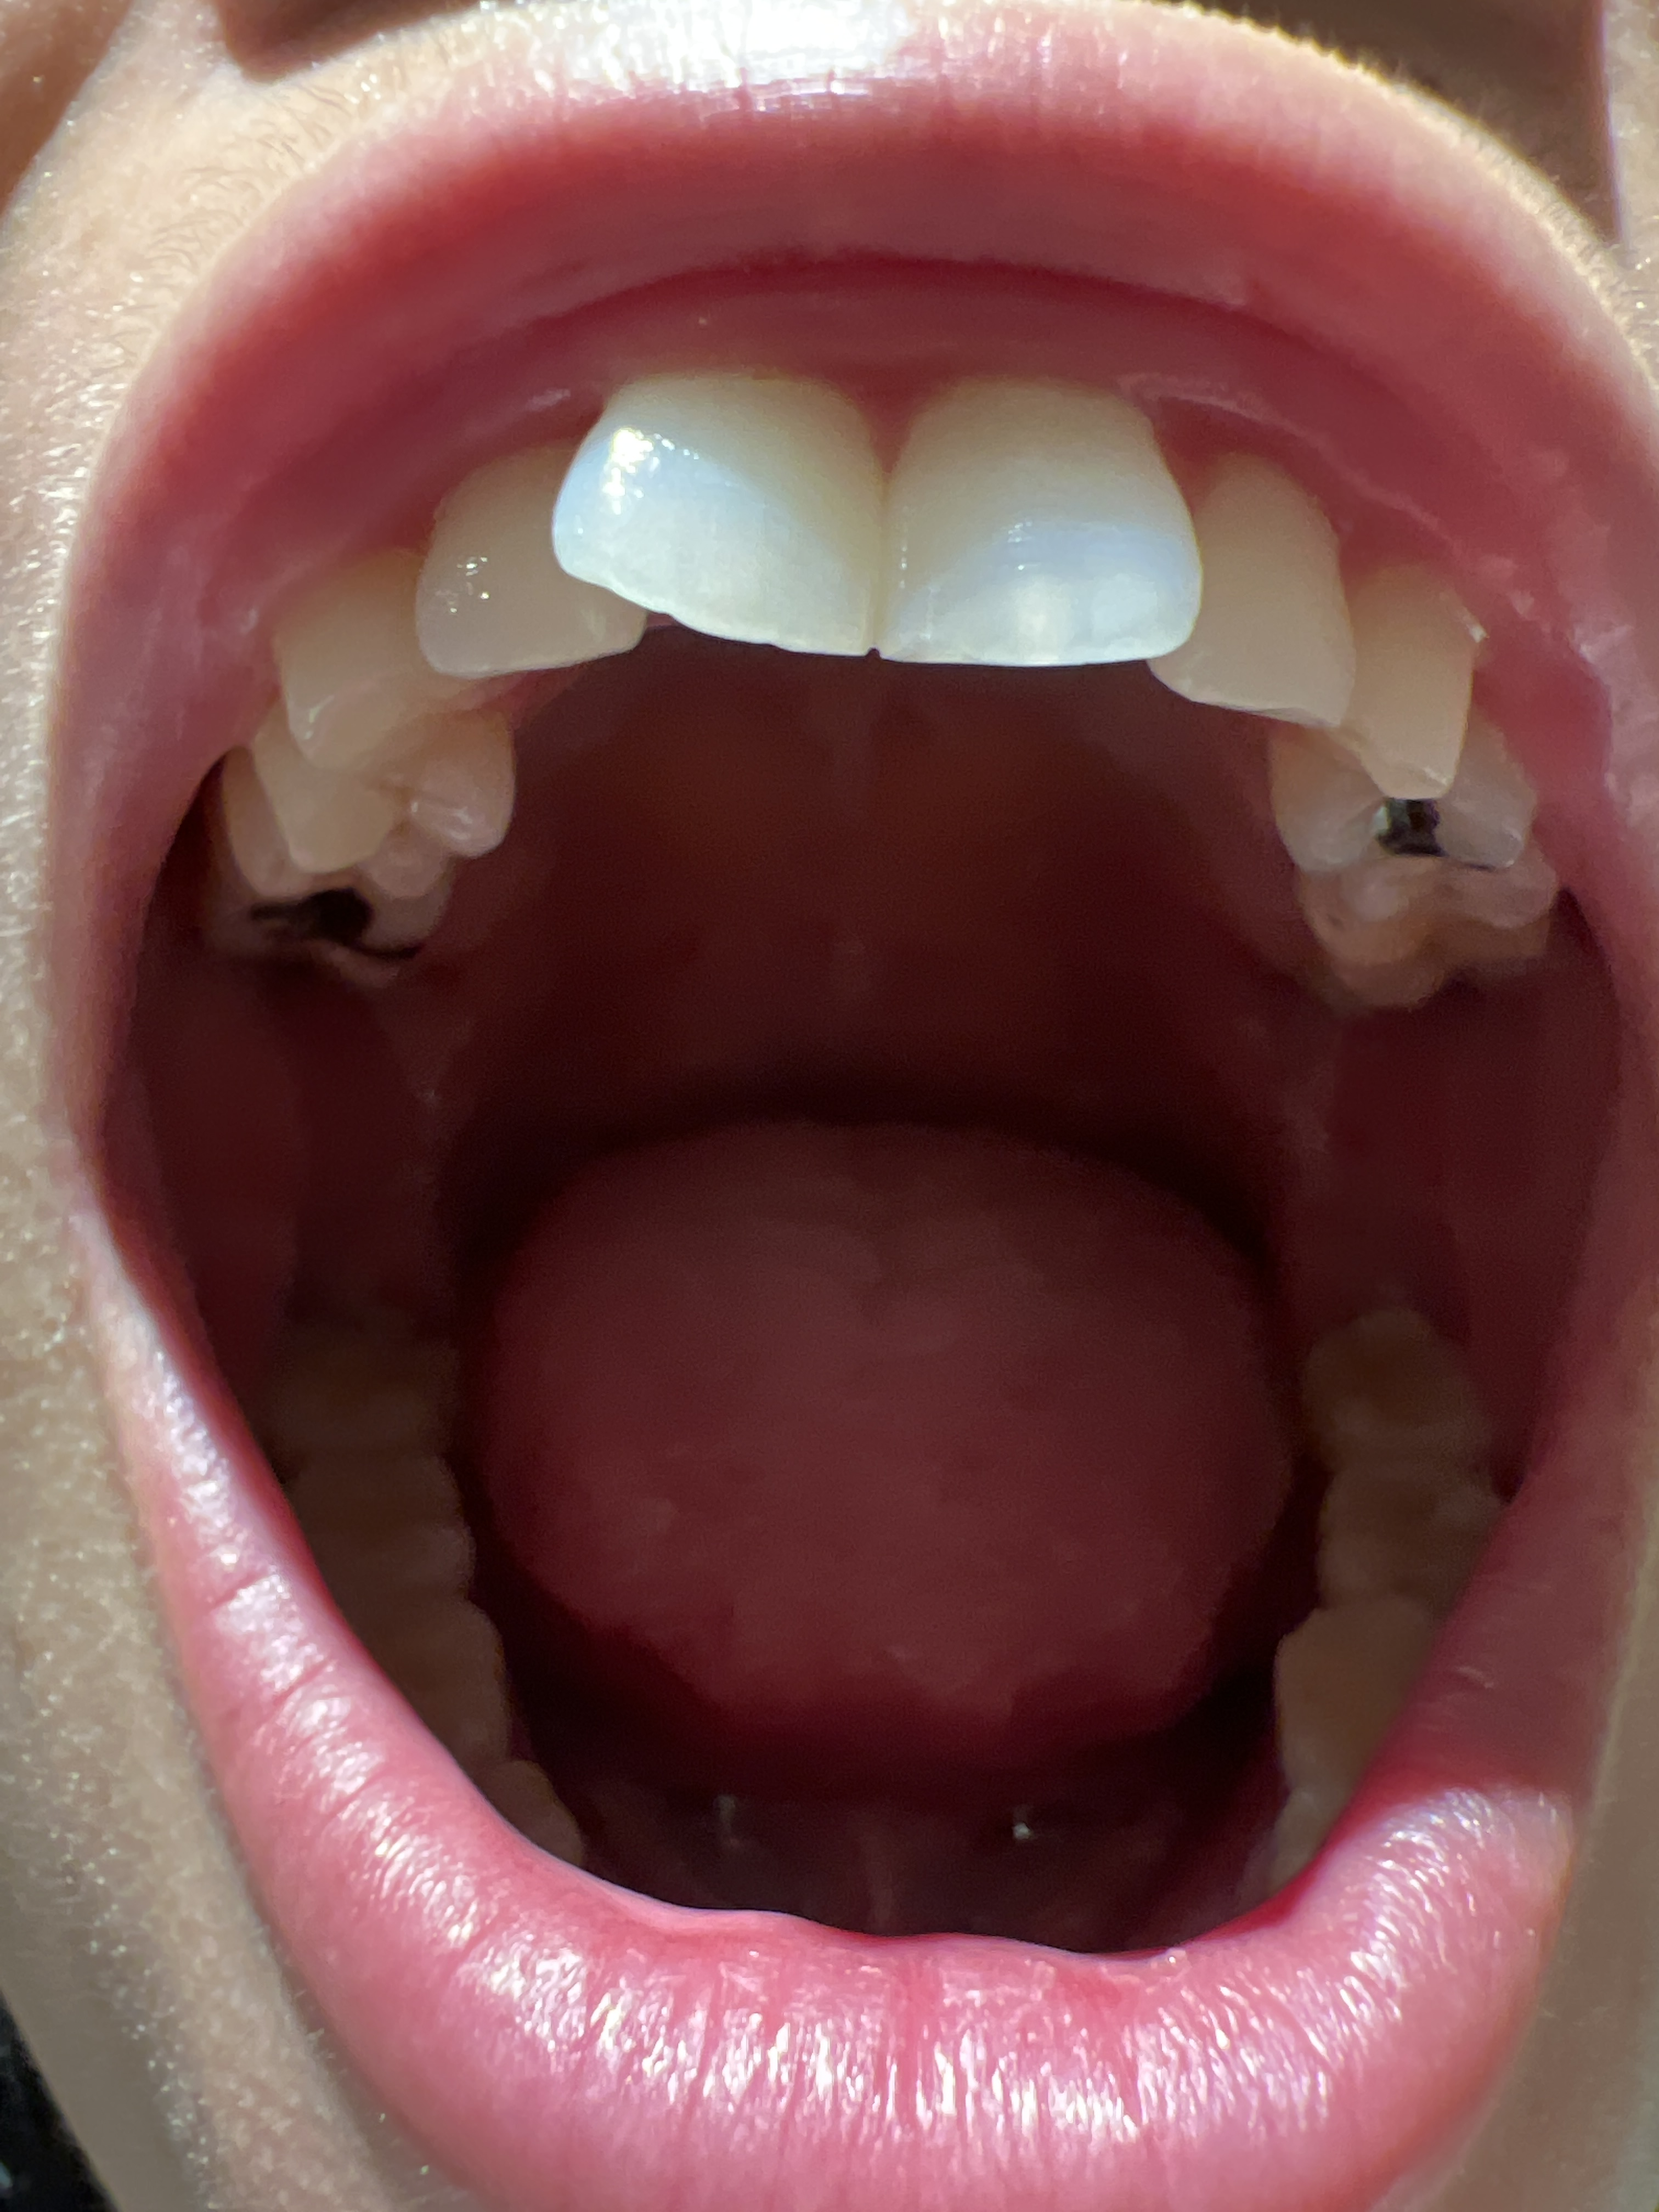teeth: (568, 385, 870, 631), (903, 392, 1190, 637), (1276, 578, 1478, 826), (427, 460, 650, 651), (1178, 467, 1326, 723), (263, 570, 451, 765)
